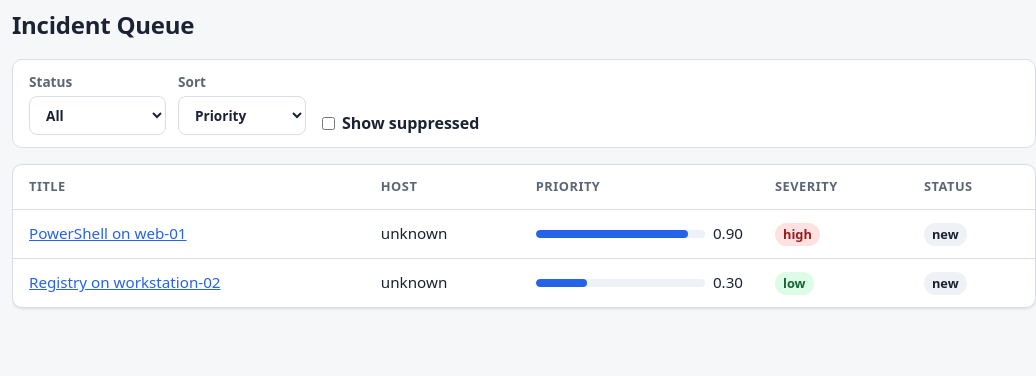
Test case: Queue › hides suppressed incidents by default and shows them with the toggle
Check: the link "PowerShell on web-01" is shown, box [29,223,187,243]
Check: the text "Registry noise on workstation-03" is not shown
What coordinates should you click on to do the following:
click the checkbox labelled "Show suppressed"
I would click on:
 (328, 123)
Its box is [322,117,335,130].
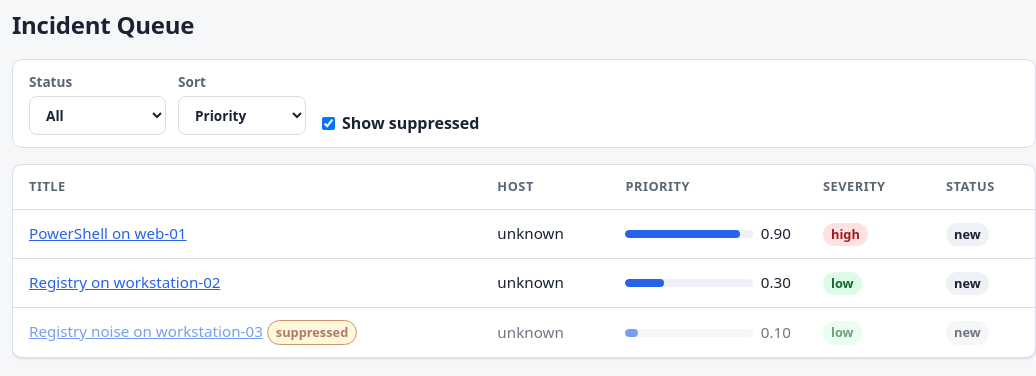
Check: the link "Registry noise on workstation-03" is shown, box [29,321,263,341]
Check: the text "Registry noise on workstation-03" shows "suppressed", box [276,323,348,341]
